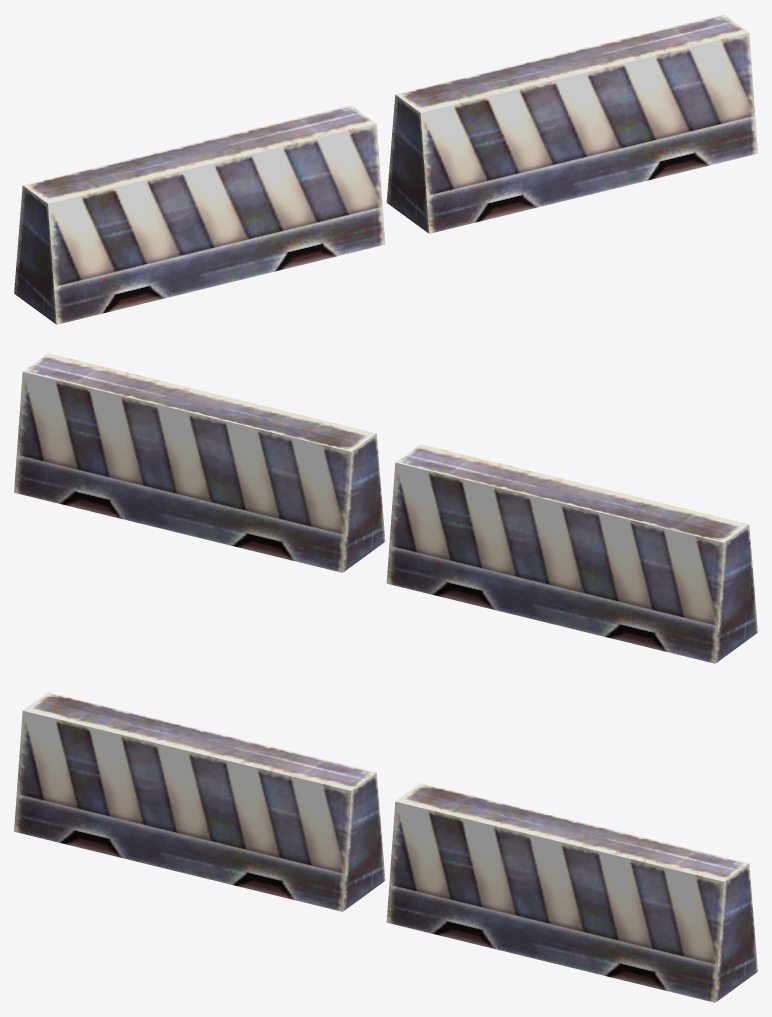
Rendered from track_la_env_barrier_02.fbx.
The picture shows the model from 3 angles, top to bottom: view 1: azimuth 30°, elevation 25°; view 2: azimuth 150°, elevation 25°; view 3: azimuth 330°, elevation 25°; orthographic projection.
Parts seen in each view (by area): view 1: track_la_env_barrier_02; view 2: track_la_env_barrier_02; view 3: track_la_env_barrier_02.
Part boxes in pixels (left/top/right/bottom): track_la_env_barrier_02: left=14, top=14, right=757, bottom=324; track_la_env_barrier_02: left=14, top=353, right=757, bottom=663; track_la_env_barrier_02: left=14, top=692, right=757, bottom=1002.
Size of the model in its own units: 12.8 by 2 by 1.35.
